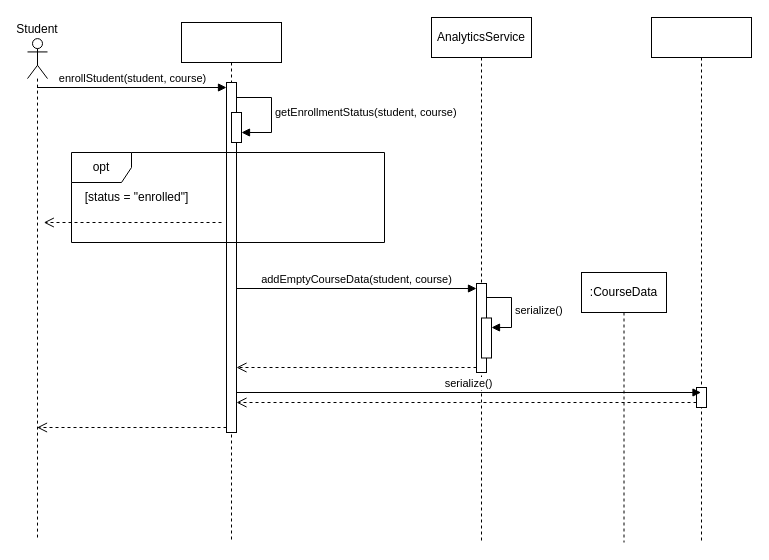
Some shapes in this 769 by 560 pixel diagram are drawn without their labels. Each missing label, with the box of its shape:
CourseService: (180, 22, 282, 542)
UserService: (650, 16, 752, 542)
